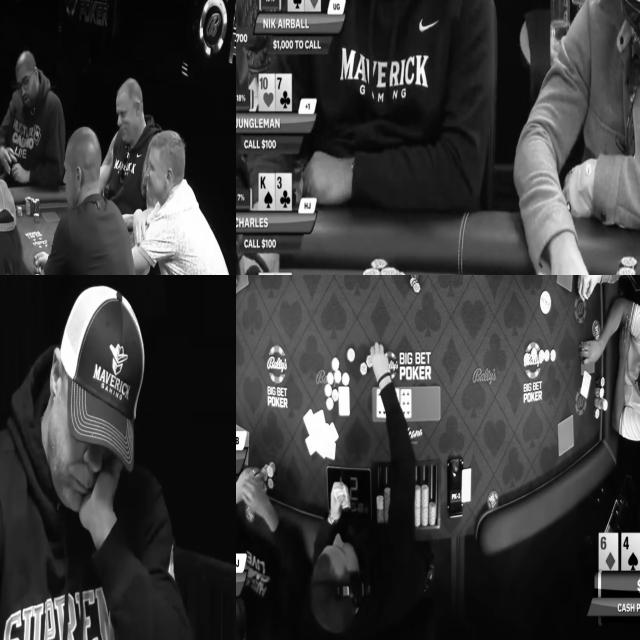10H: (258, 74, 276, 110)
3C: (276, 174, 292, 210)
4S: (621, 533, 640, 571)
6D: (599, 533, 618, 571), (304, 0, 321, 11)
7C: (276, 73, 292, 112)
AS: (287, 0, 303, 9)
KS: (259, 172, 274, 211)
